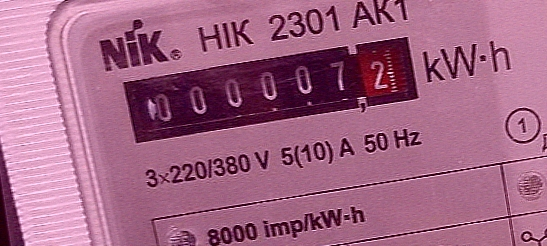0: (218, 71, 246, 112), (149, 87, 176, 124), (289, 59, 315, 97), (256, 66, 281, 105), (185, 79, 210, 117)
2: (365, 54, 391, 93)
7: (325, 54, 351, 95)
screen: (116, 27, 428, 151)
